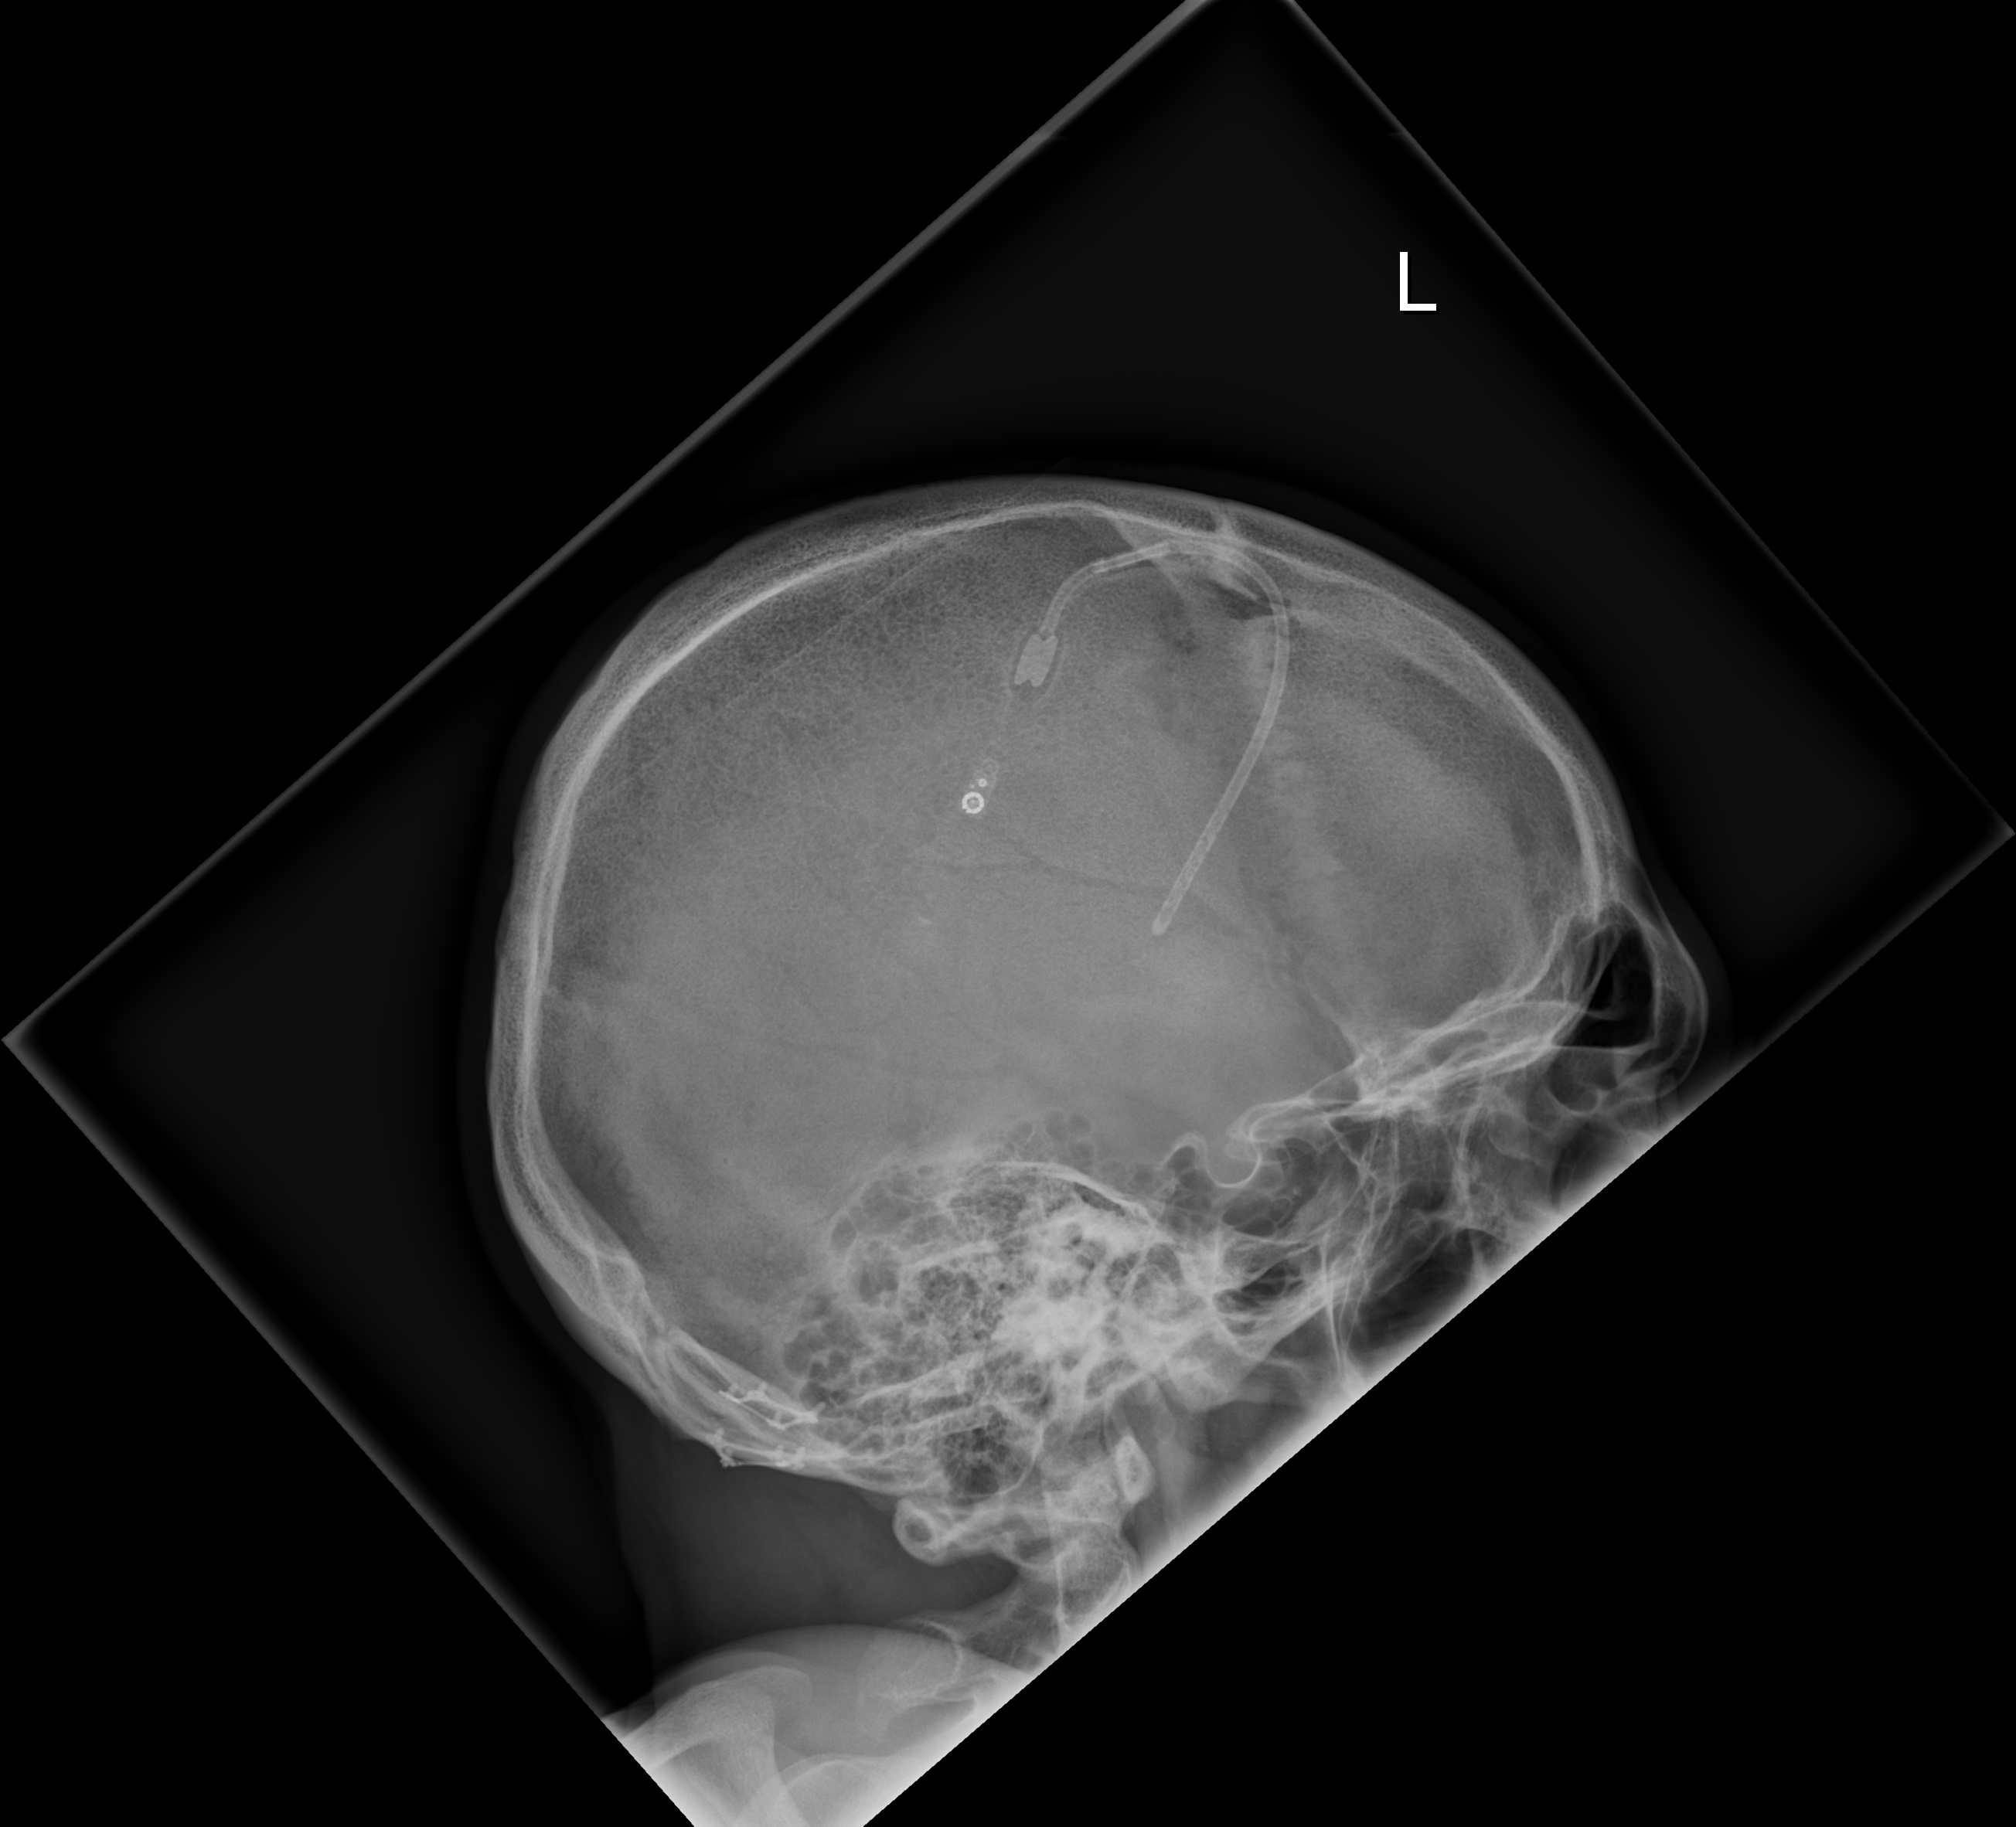Codman Hakim: (954, 751, 1006, 832)
